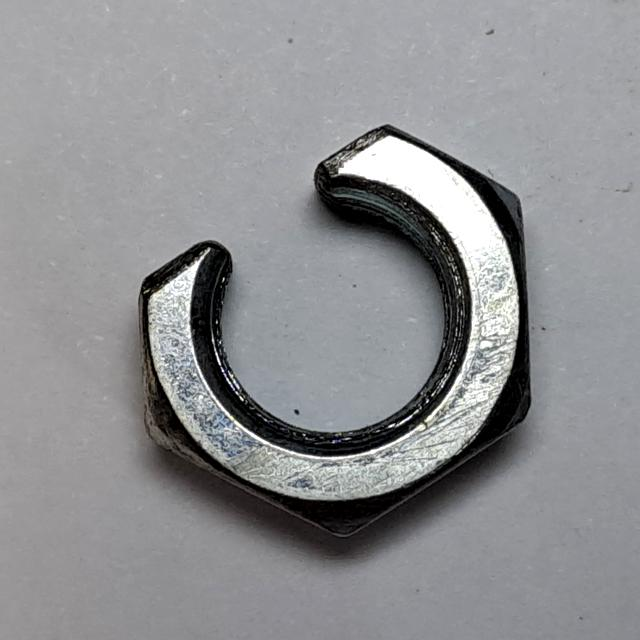Fracture: (128, 104, 548, 561)
